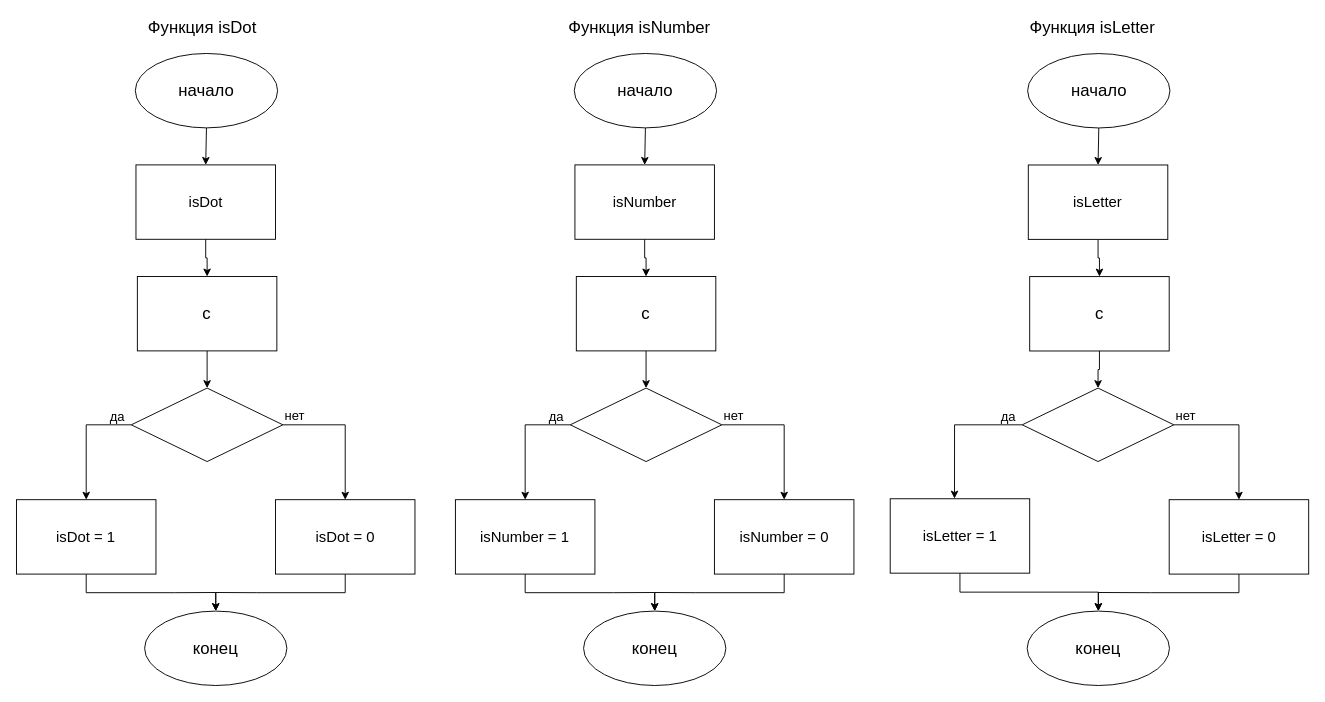
This 1325x702 diagram has some shape labels left out. Here are the shapes that lost their labels. From the top down, the centre of each, then its label:
At point 206,424: "c == '.' || c == ','".
At point 645,424: "c >= '0' && c <= '9'".
At point 1097,424: "c >= 'A' && c <= 'Z' || c >= 'a' && c <= 'z'".
